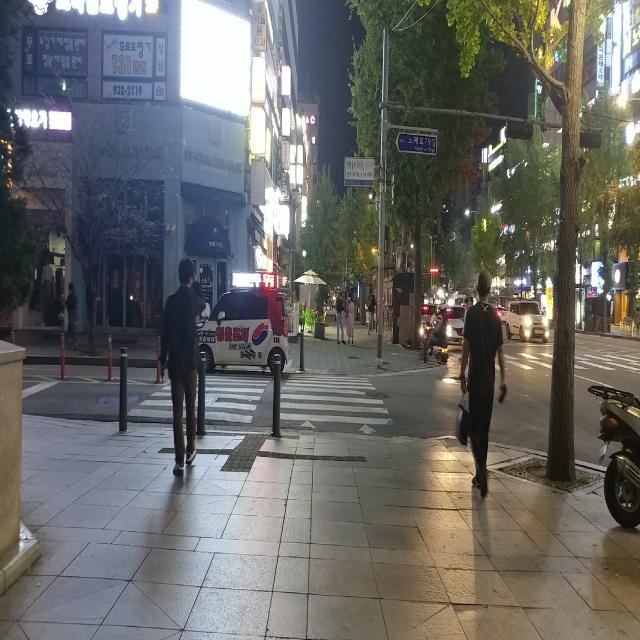횡단보도: (127, 375, 395, 434)
